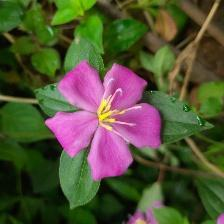malabar melastome: (43, 59, 166, 184)
